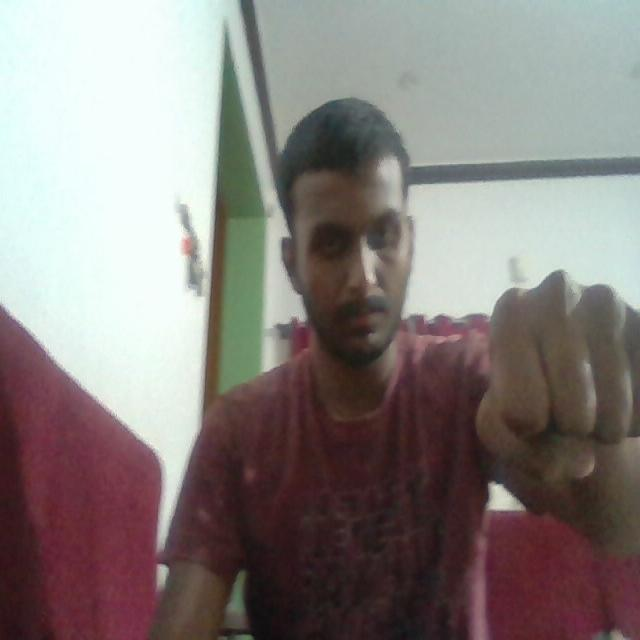yes: (469, 234, 640, 550)
